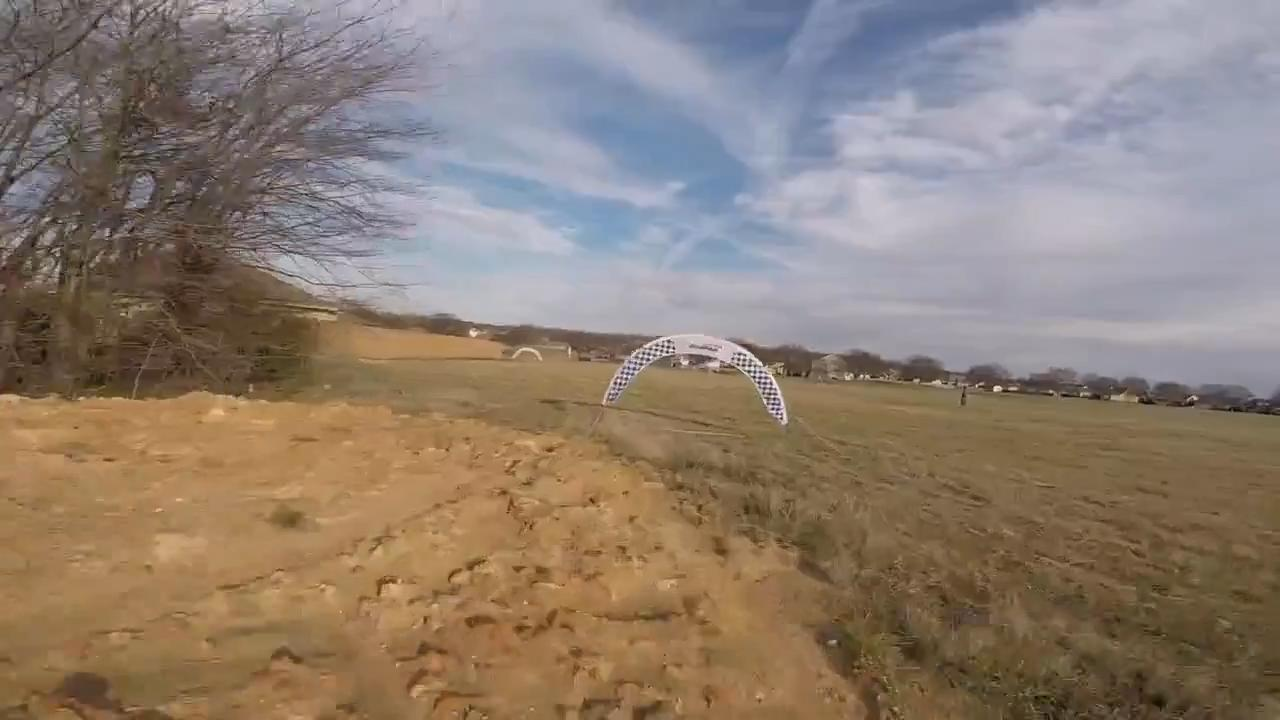gate: (600, 333, 789, 428)
